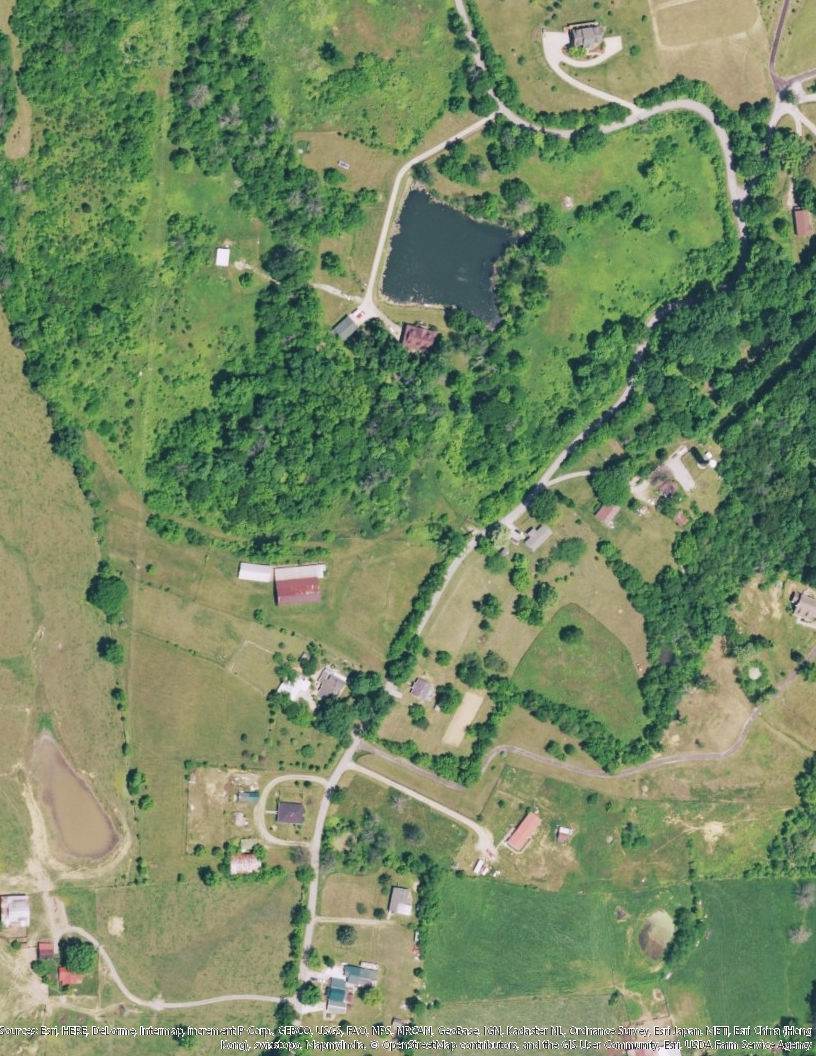cafo: (234, 562, 329, 609)
